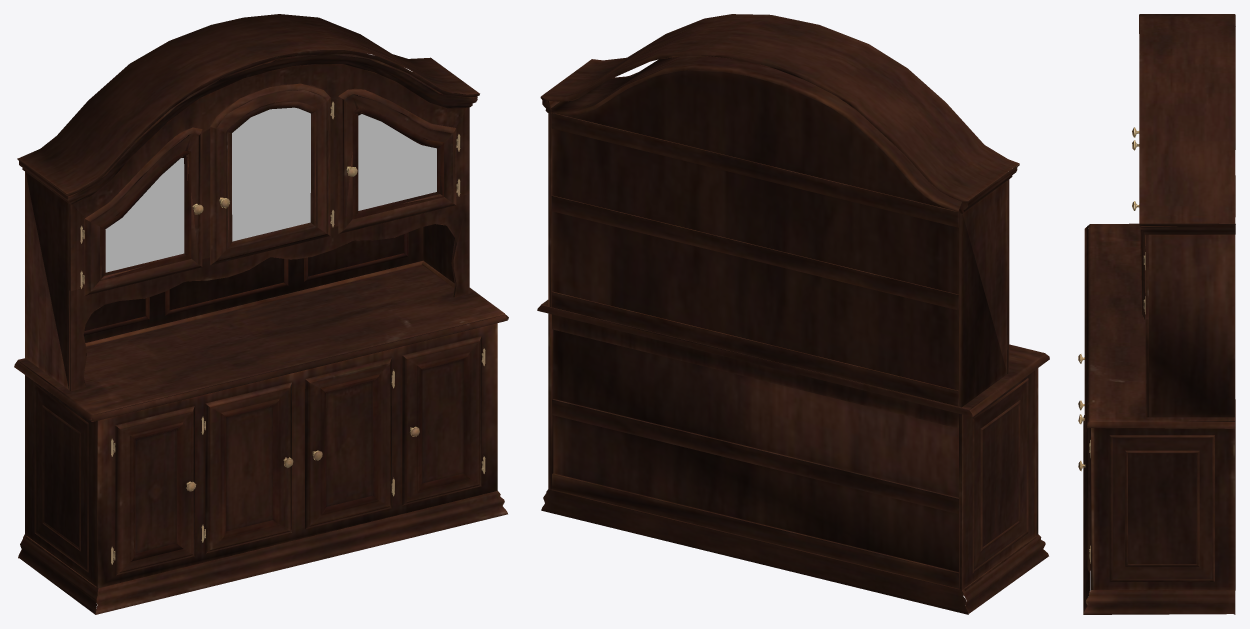
Rendered from vintage_cabinet_01.gltf.
The picture shows the model from 3 angles, left to right: view 1: azimuth 30°, elevation 25°; view 2: azimuth 150°, elevation 25°; view 3: azimuth 270°, elevation 25°; orthographic projection. The views are drawn at different scales.
Visible parts, largest first — view 1: vintage_cabinet_01; view 2: vintage_cabinet_01; view 3: vintage_cabinet_01.
Boxes of the visible parts, <box> form: vintage_cabinet_01: <box>14,14,508,614</box>; vintage_cabinet_01: <box>537,14,1049,614</box>; vintage_cabinet_01: <box>1078,14,1235,614</box>.
Size of the model in its own units: 2.02 by 2.24 by 0.6706.
1 material, 1 textured.
